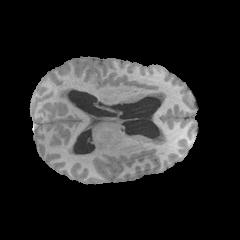glioma: (93, 127, 119, 149)
